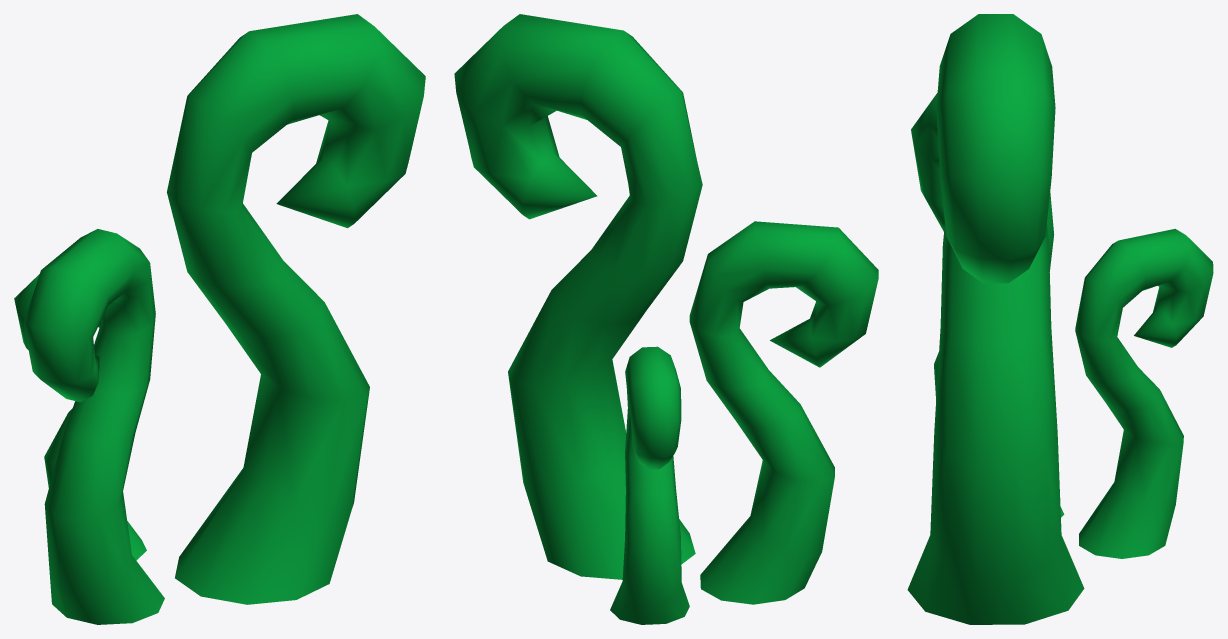
File: winter_grass_4.fbx
3 renders of one model, left to right at view 1: azimuth 30°, elevation 25°; view 2: azimuth 150°, elevation 25°; view 3: azimuth 270°, elevation 25°, orthographic. The views are drawn at different scales.
Parts seen in each view (by area): view 1: Plane056; view 2: Plane056; view 3: Plane056.
Part boxes in pixels (x1=…): Plane056: x1=14, y1=14, x2=425, y2=624; Plane056: x1=454, y1=14, x2=878, y2=624; Plane056: x1=907, y1=14, x2=1213, y2=624.
Size of the model in its own units: 14 by 17.42 by 8.37.
